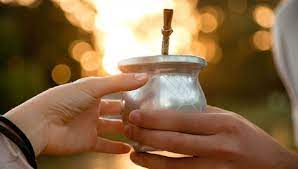mate: (117, 55, 208, 154)
